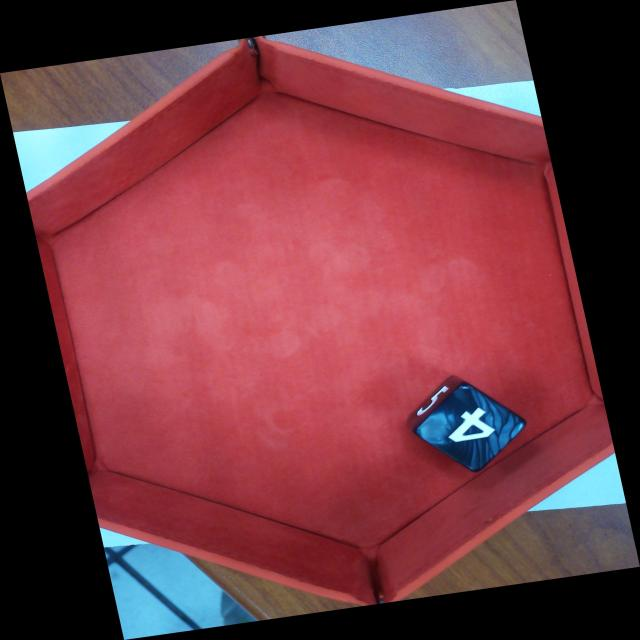dice: (416, 385, 530, 472)
